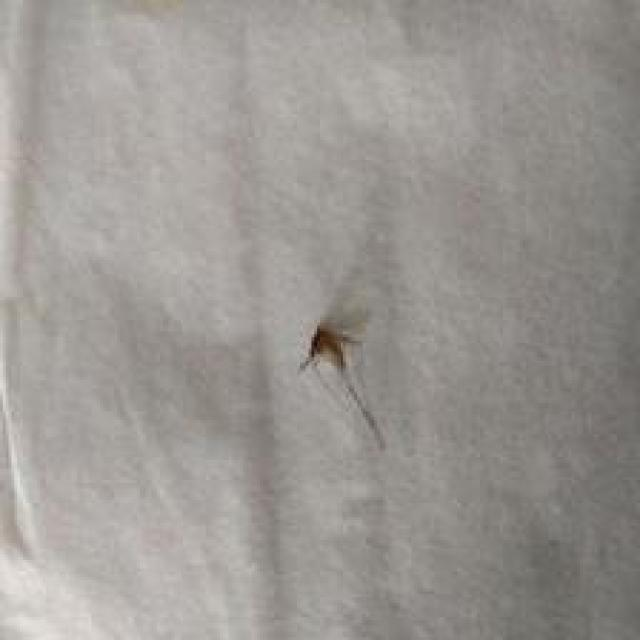Culex: (296, 300, 387, 451)
